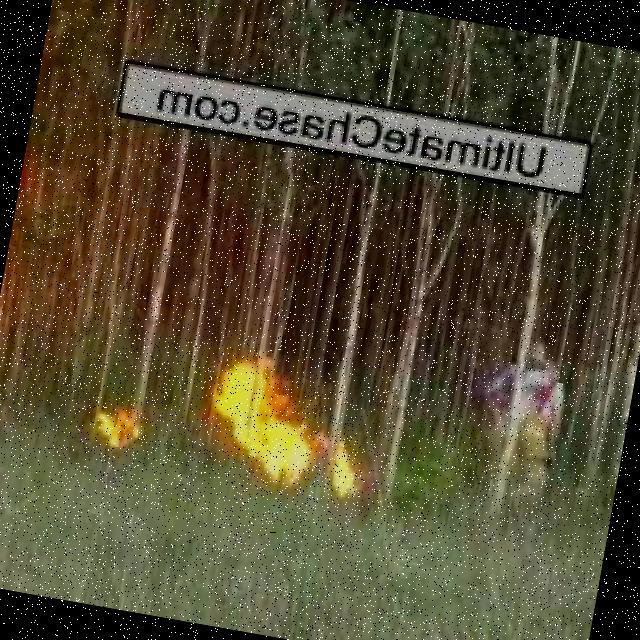Fire: (195, 347, 325, 485), (85, 392, 148, 458), (323, 437, 364, 505)
